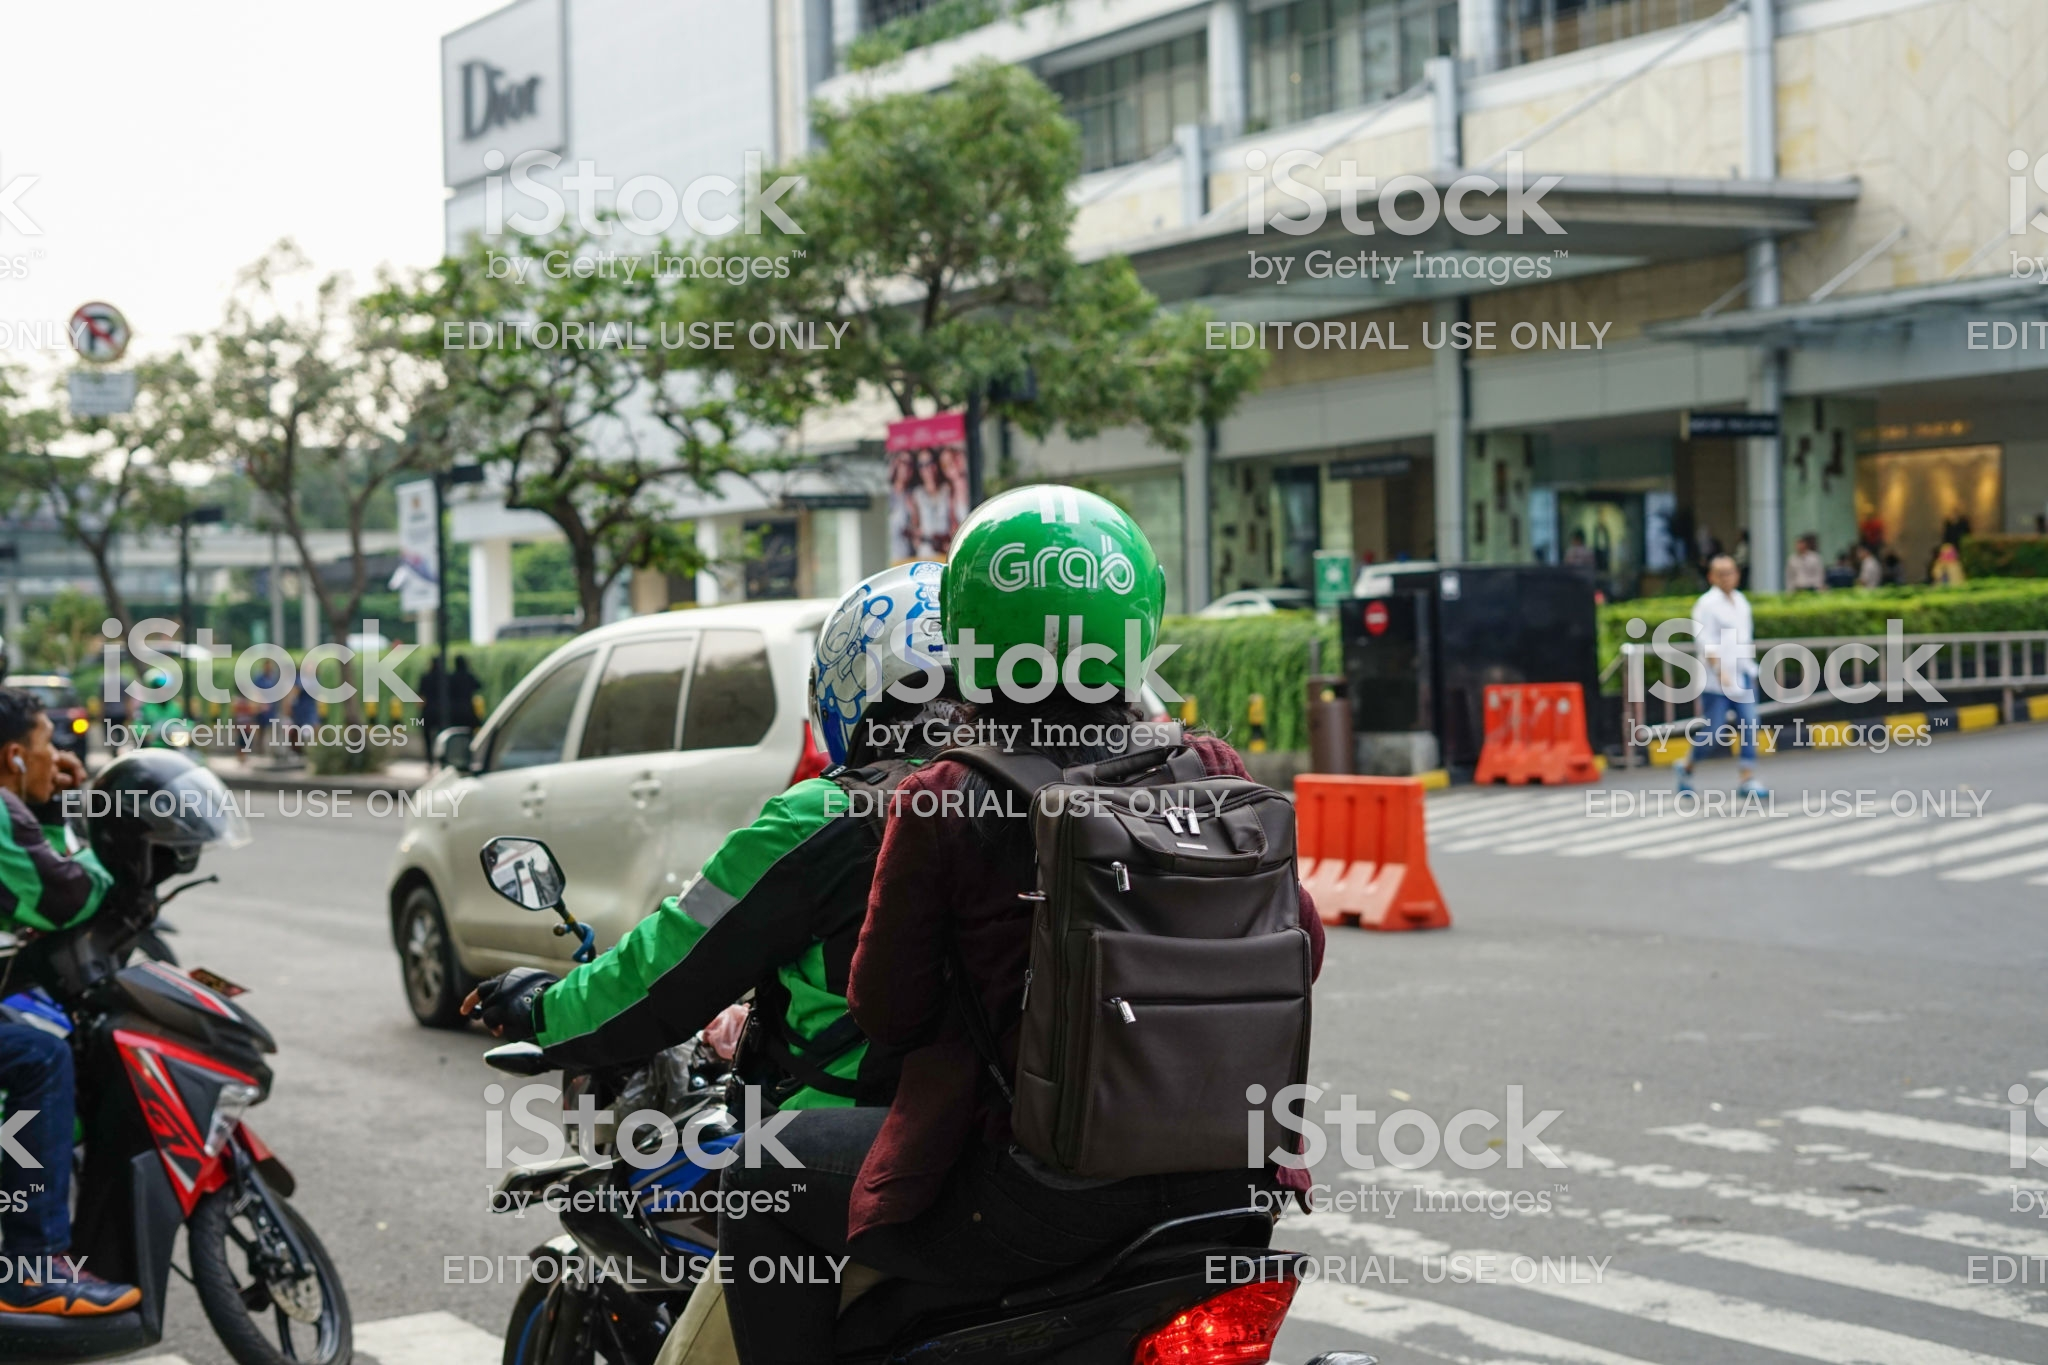helmet: (952, 475, 1172, 724), (758, 561, 1011, 719)
